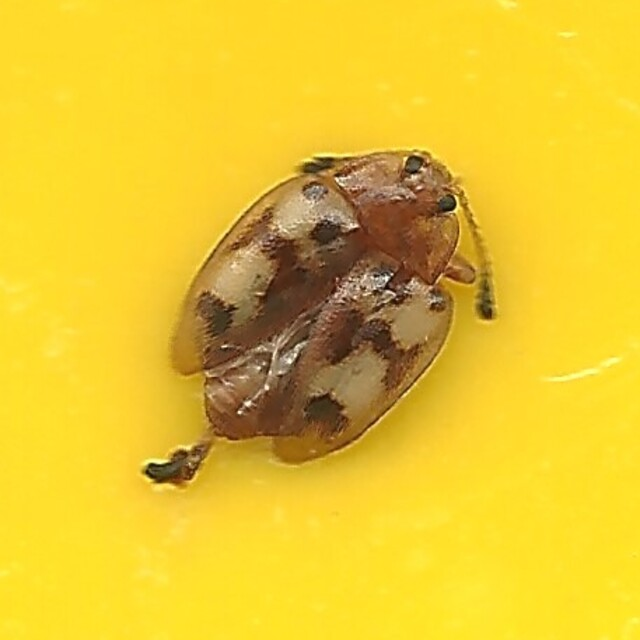Coleoptera: (140, 148, 500, 492)
